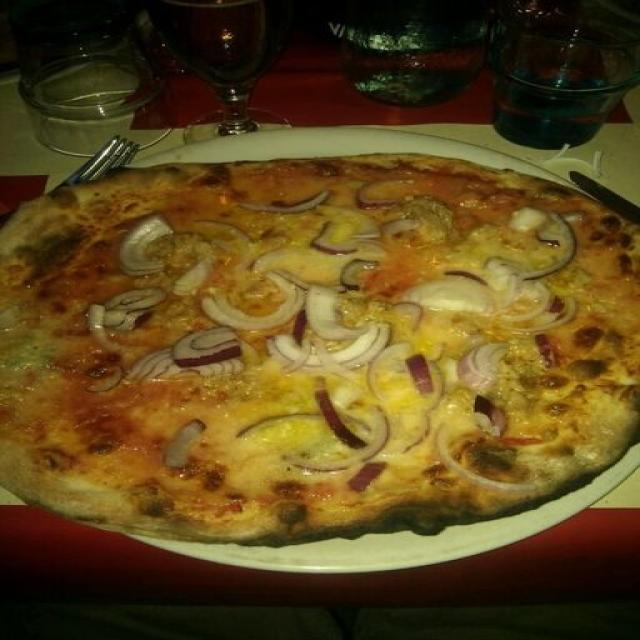Onions: (423, 422, 537, 497), (298, 418, 392, 502), (200, 272, 308, 337), (262, 323, 394, 375), (385, 266, 510, 318), (136, 334, 251, 384), (364, 344, 455, 400), (300, 376, 368, 445), (113, 212, 178, 281), (291, 288, 362, 342), (92, 288, 153, 334), (452, 343, 502, 387), (467, 392, 513, 439), (160, 425, 199, 469)
Pepperoni: (306, 214, 419, 257), (191, 215, 264, 279), (495, 273, 578, 327), (527, 210, 579, 288), (168, 253, 224, 296), (355, 171, 417, 209), (240, 190, 337, 212), (337, 258, 377, 288)
Pizza: (2, 155, 637, 545)
